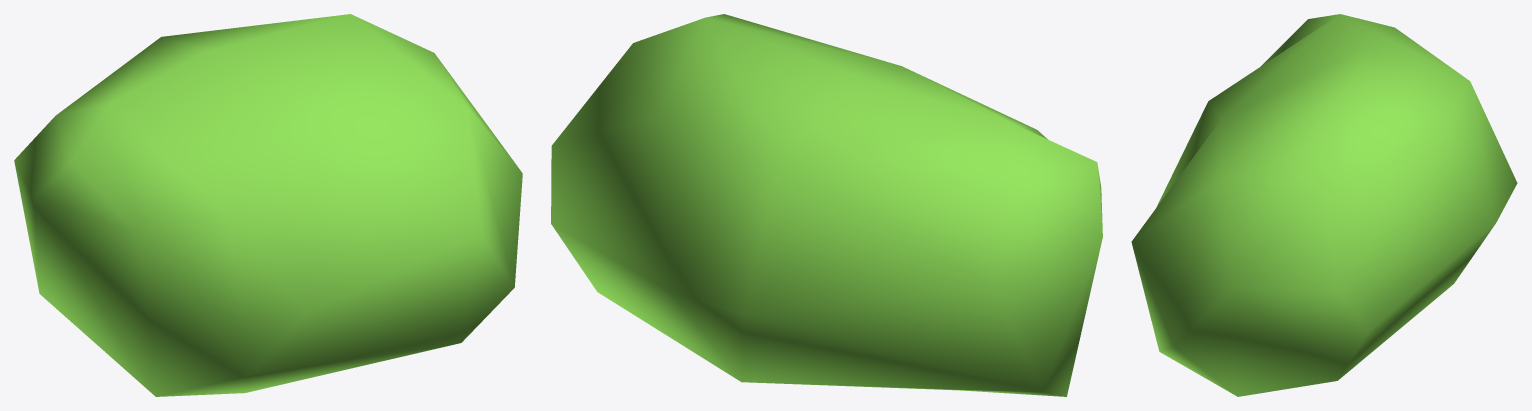
Rendered from rock_09.FBX.
3 renders of one model, left to right at view 1: azimuth 30°, elevation 25°; view 2: azimuth 150°, elevation 25°; view 3: azimuth 270°, elevation 25°, orthographic. The views are drawn at different scales.
Visible parts, largest first — view 1: rock_09; view 2: rock_09; view 3: rock_09.
Part boxes in pixels (<box>): rock_09: <box>14,14,522,396</box>; rock_09: <box>551,14,1102,396</box>; rock_09: <box>1131,14,1517,396</box>.
Bounding box in the file's own units: 233 × 150 × 183.
